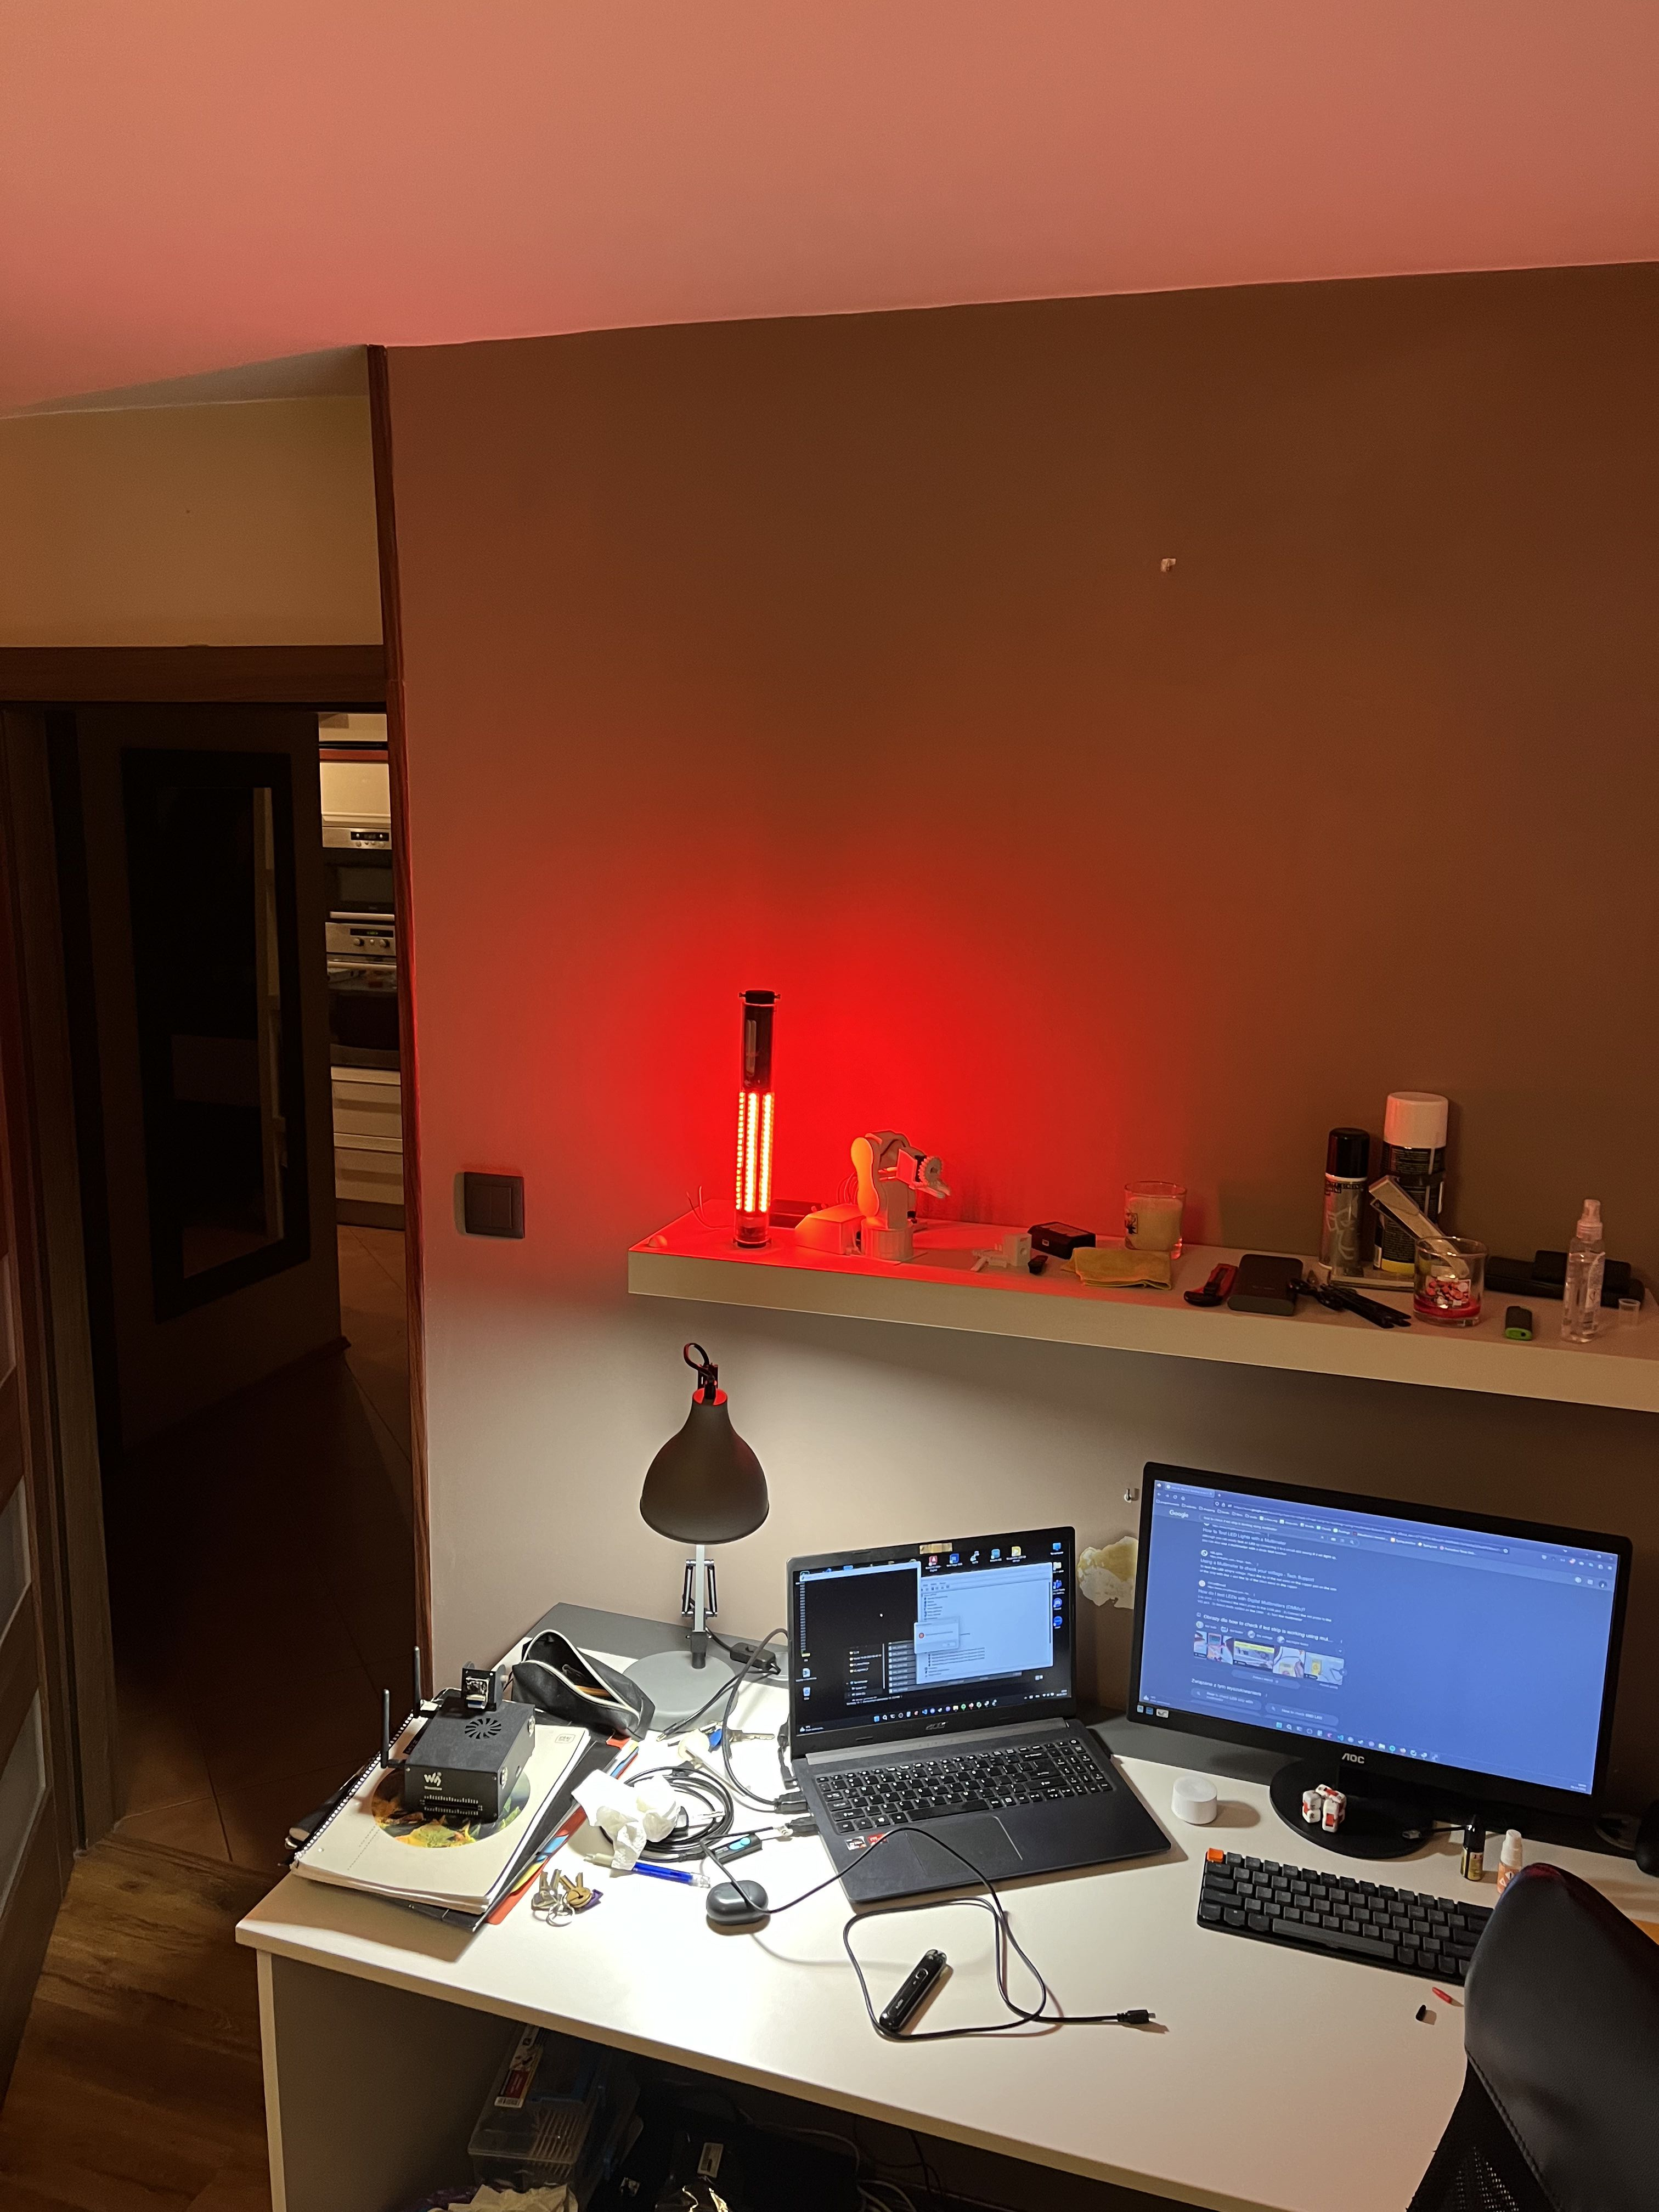red: (734, 1003, 772, 1249)
